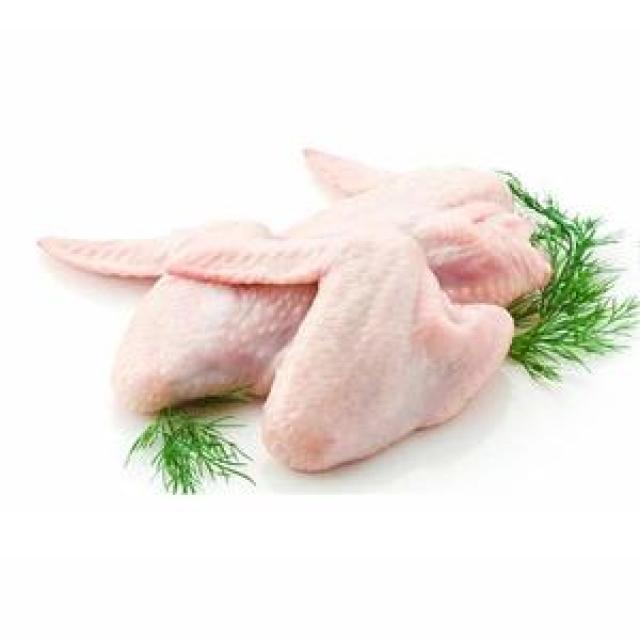wing: (190, 222, 500, 478), (28, 211, 320, 412), (300, 131, 542, 304)
